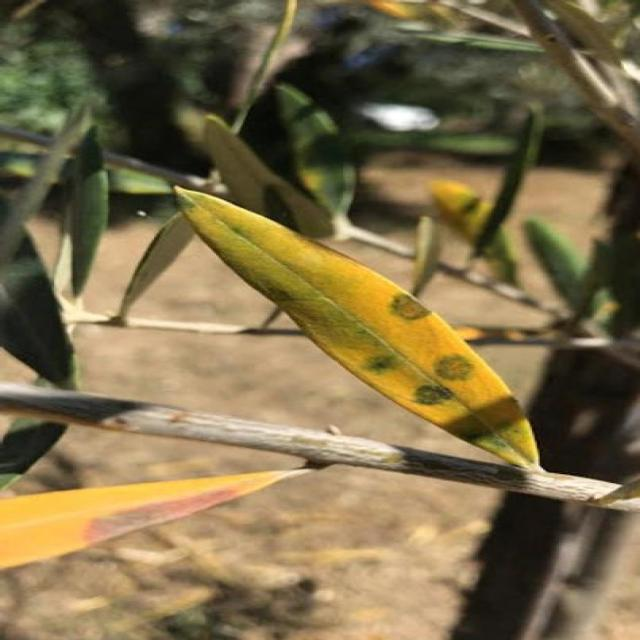OlivePeacockSpot: (176, 190, 540, 468), (0, 461, 327, 568)
